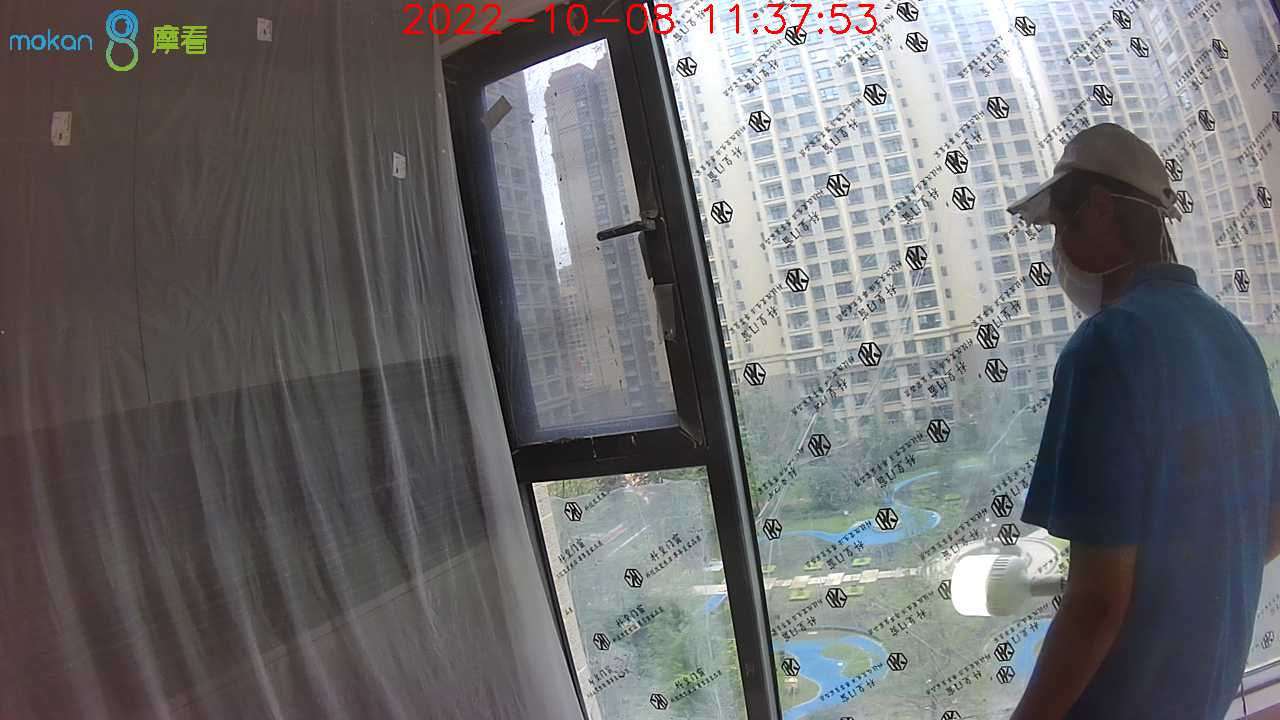people: (981, 123, 1275, 720)
window: (436, 3, 1280, 719)
